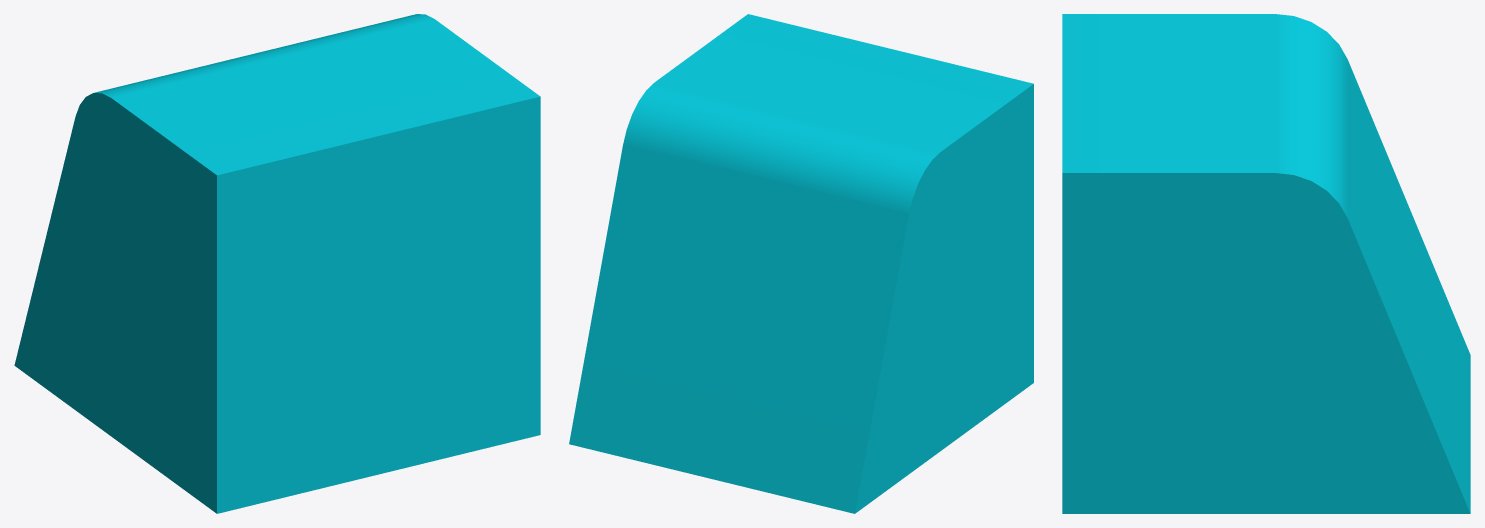
File: Wall_Attachment2.fbx
The picture shows the model from 3 angles, left to right: view 1: azimuth 30°, elevation 25°; view 2: azimuth 150°, elevation 25°; view 3: azimuth 270°, elevation 25°; orthographic projection. The views are drawn at different scales.
Parts seen in each view (by area): view 1: pCube35; view 2: pCube35; view 3: pCube35.
Part boxes in pixels (left/top/right/bottom): pCube35: left=14, top=14, right=540, bottom=513; pCube35: left=569, top=14, right=1033, bottom=513; pCube35: left=1062, top=14, right=1470, bottom=513.
Size of the model in its own units: 38.27 by 38.27 by 41.52.
